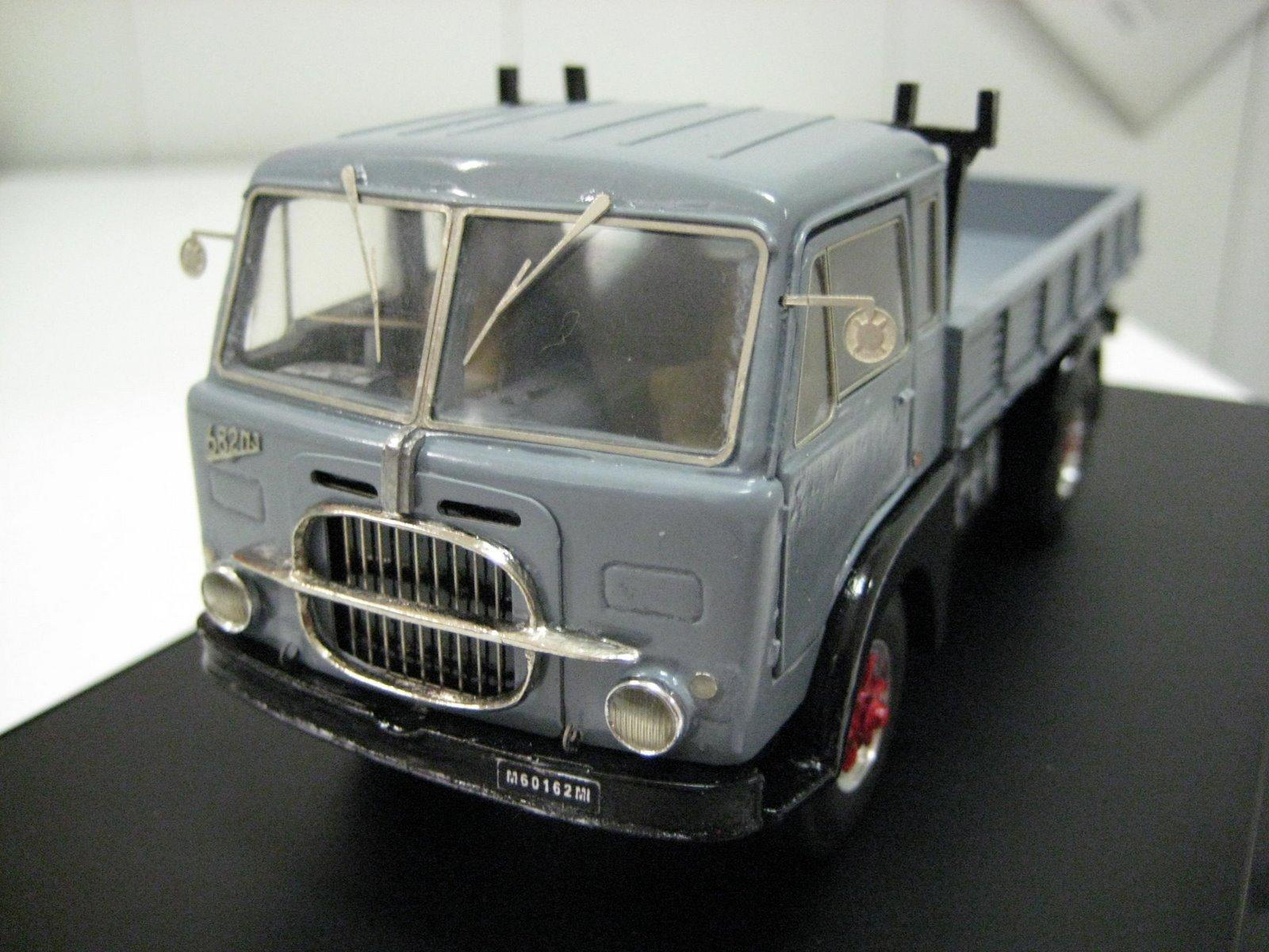truck: (179, 59, 1145, 865)
